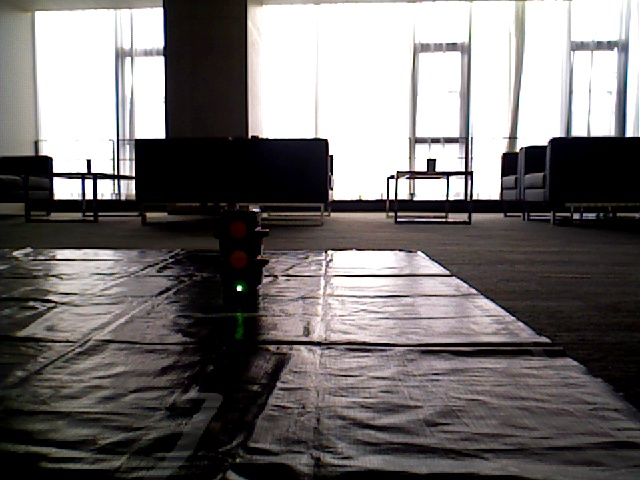green: (225, 206, 257, 301)
